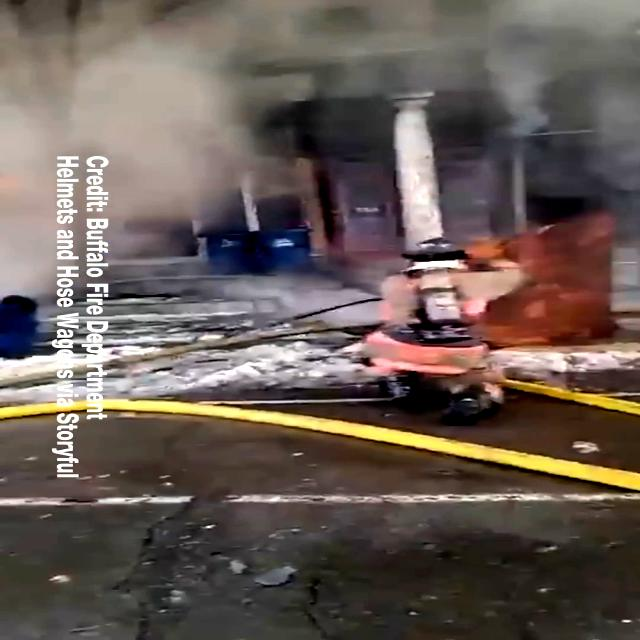Smoke: (0, 1, 640, 153)
